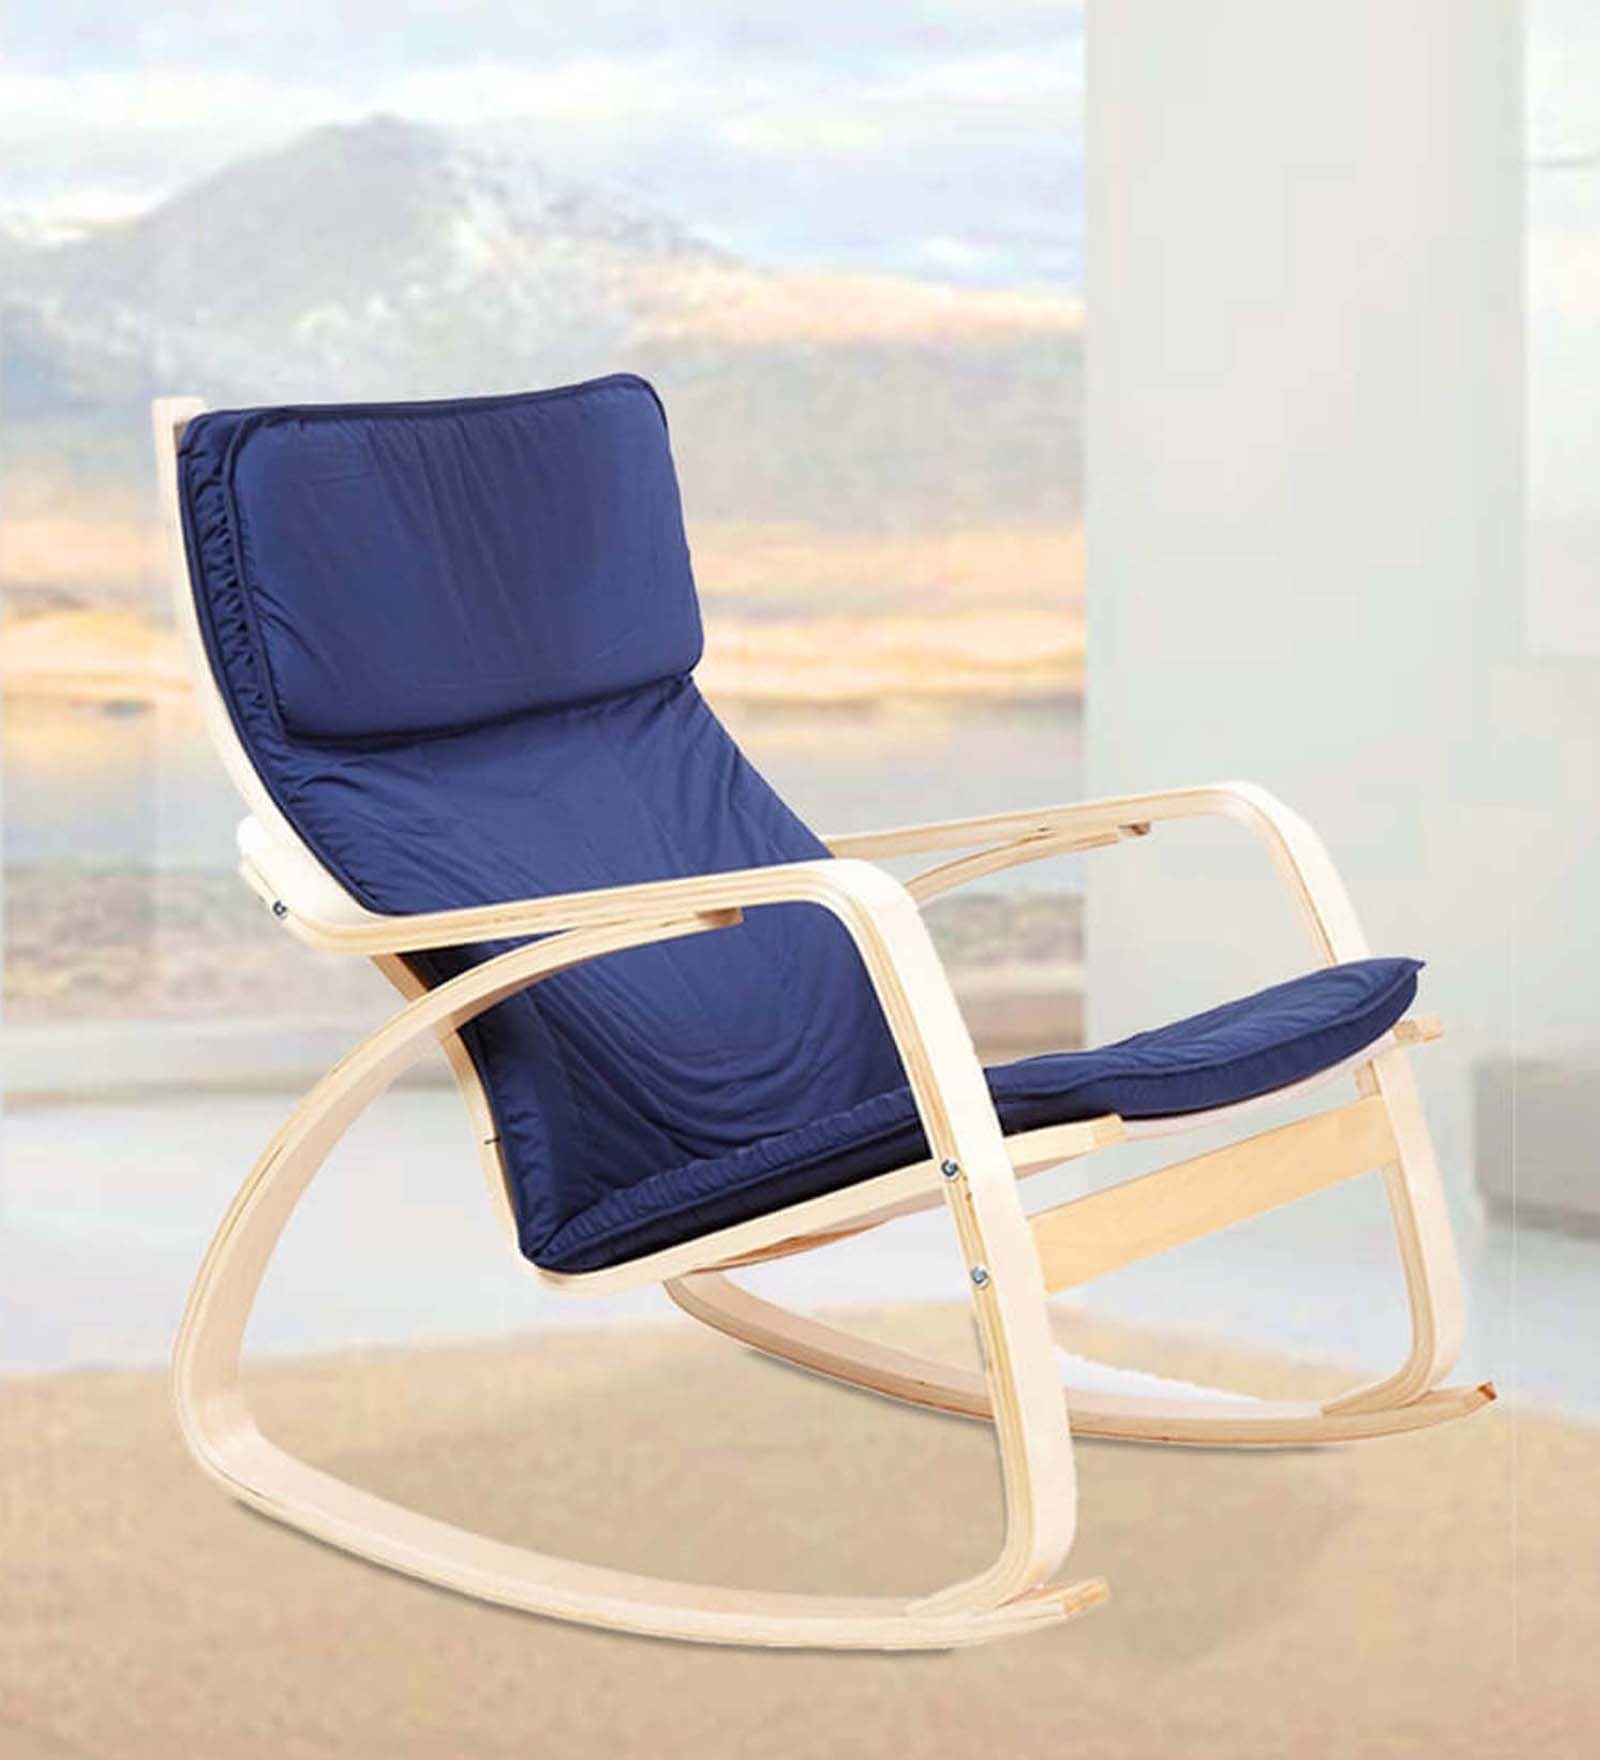Vita Rocker Chair in Blue Colour by HomeTown: (77, 228, 1548, 1705)
